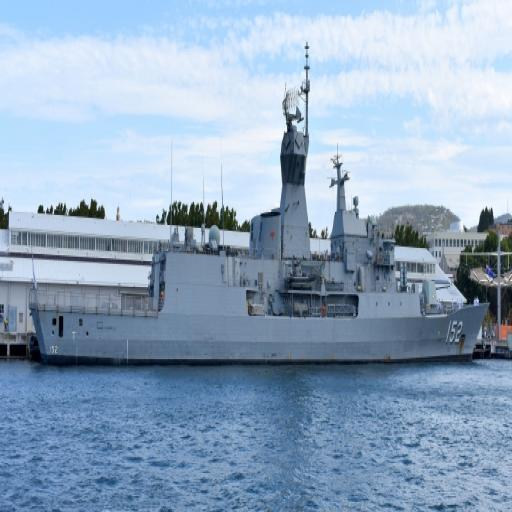Fragata: (29, 31, 492, 372)
